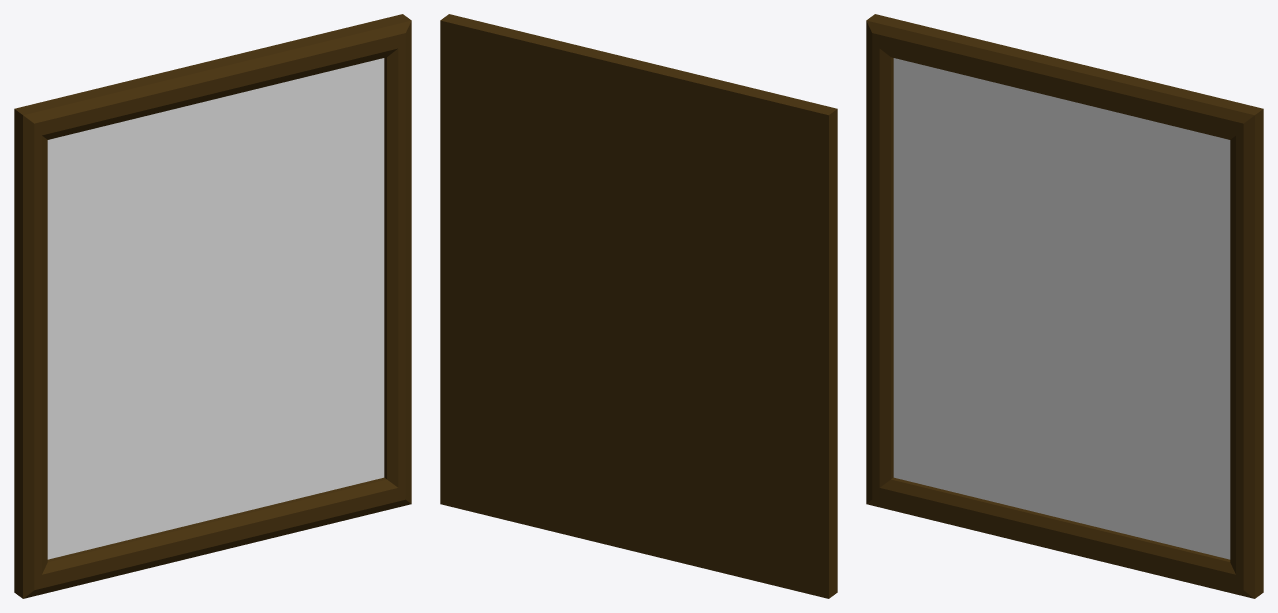
Rendered from geo_MediumWallFrame.fbx.
3 views of the same model, side by side, from view 1: azimuth 30°, elevation 25°; view 2: azimuth 150°, elevation 25°; view 3: azimuth 330°, elevation 25° (orthographic).
Parts seen in each view (by area): view 1: pCube59; view 2: pCube59; view 3: pCube59.
Part boxes in pixels (x1,y1,x2,y2): pCube59: (14,14,411,598); pCube59: (440,14,837,598); pCube59: (866,14,1263,598).
Bounding box in the file's own units: 47.25 × 56.2 × 2.42.
1 material, 1 textured.
